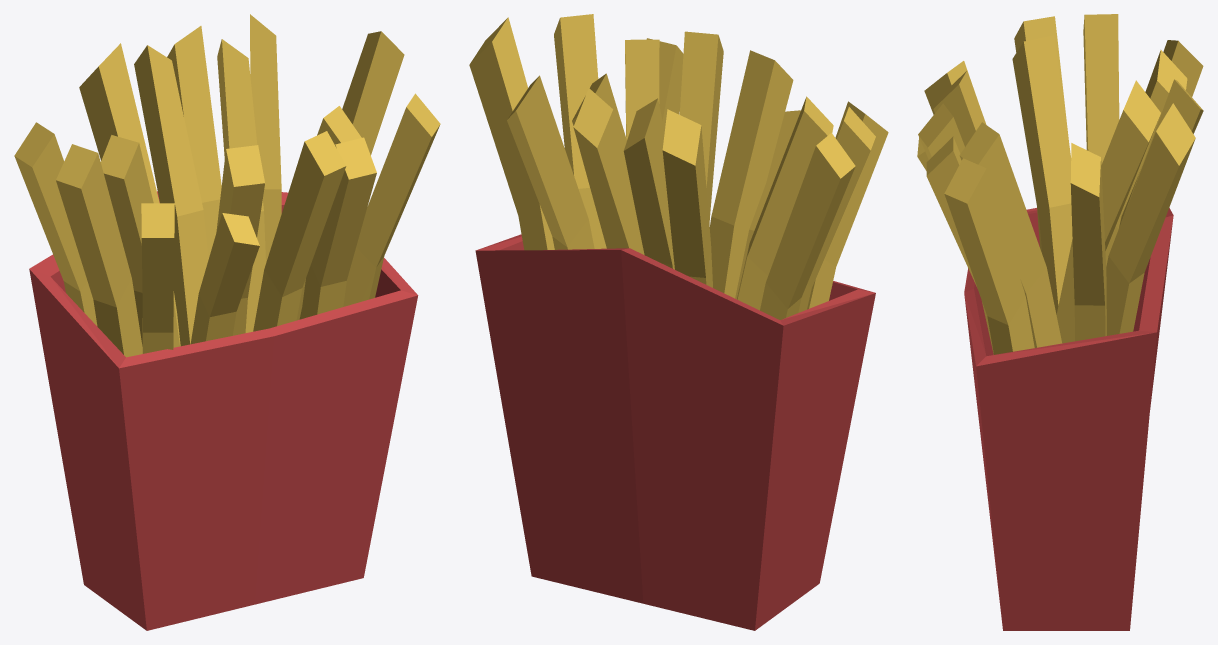
The model's file is French Fries.fbx.
3 renders of one model, left to right at view 1: azimuth 30°, elevation 25°; view 2: azimuth 150°, elevation 25°; view 3: azimuth 270°, elevation 25°, orthographic. The views are drawn at different scales.
Visible parts, largest first — view 1: French Fries; view 2: French Fries; view 3: French Fries.
Part boxes in pixels (x1,y1,x2,y2): French Fries: [14, 14, 440, 630]; French Fries: [469, 14, 888, 630]; French Fries: [917, 14, 1203, 630].
Bounding box in the file's own units: 18.73 × 24.71 × 12.49.
